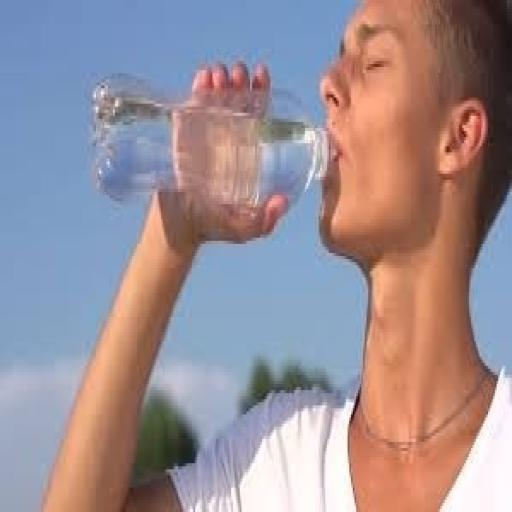drinking: (87, 0, 511, 321)
